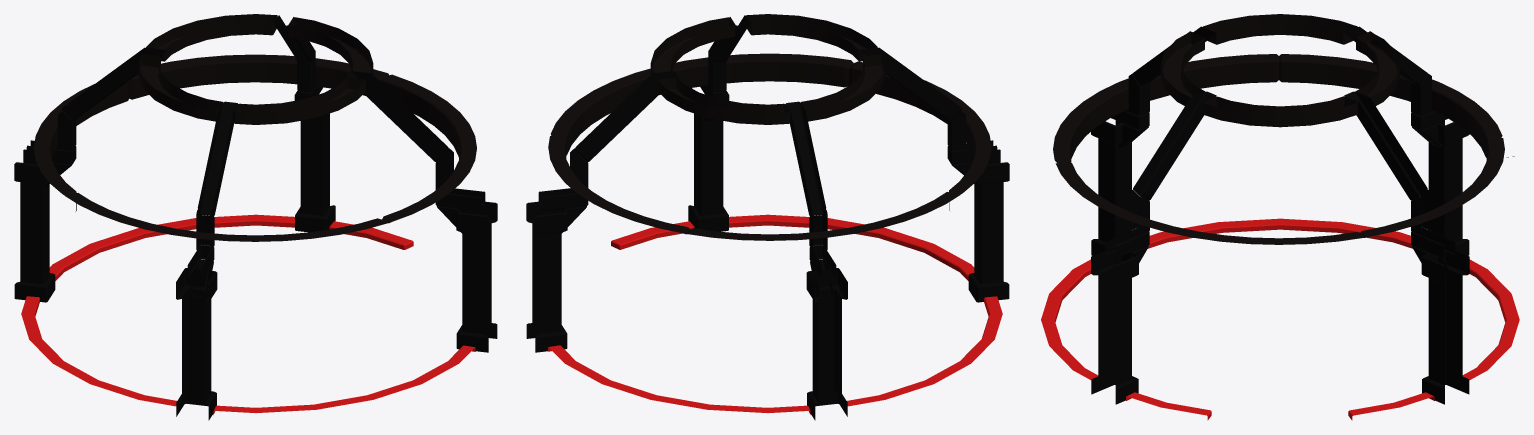
File: SupportFrame.fbx
3 views of the same model, side by side, from view 1: azimuth 30°, elevation 25°; view 2: azimuth 150°, elevation 25°; view 3: azimuth 270°, elevation 25° (orthographic).
Parts seen in each view (by area): view 1: SuportFrame; view 2: SuportFrame; view 3: SuportFrame.
Part boxes in pixels (x1,y1,x2,y2): SuportFrame: (14, 14, 497, 420); SuportFrame: (526, 14, 1009, 420); SuportFrame: (1041, 14, 1519, 420).
Bounding box in the file's own units: 4024 × 2400 × 4026.
